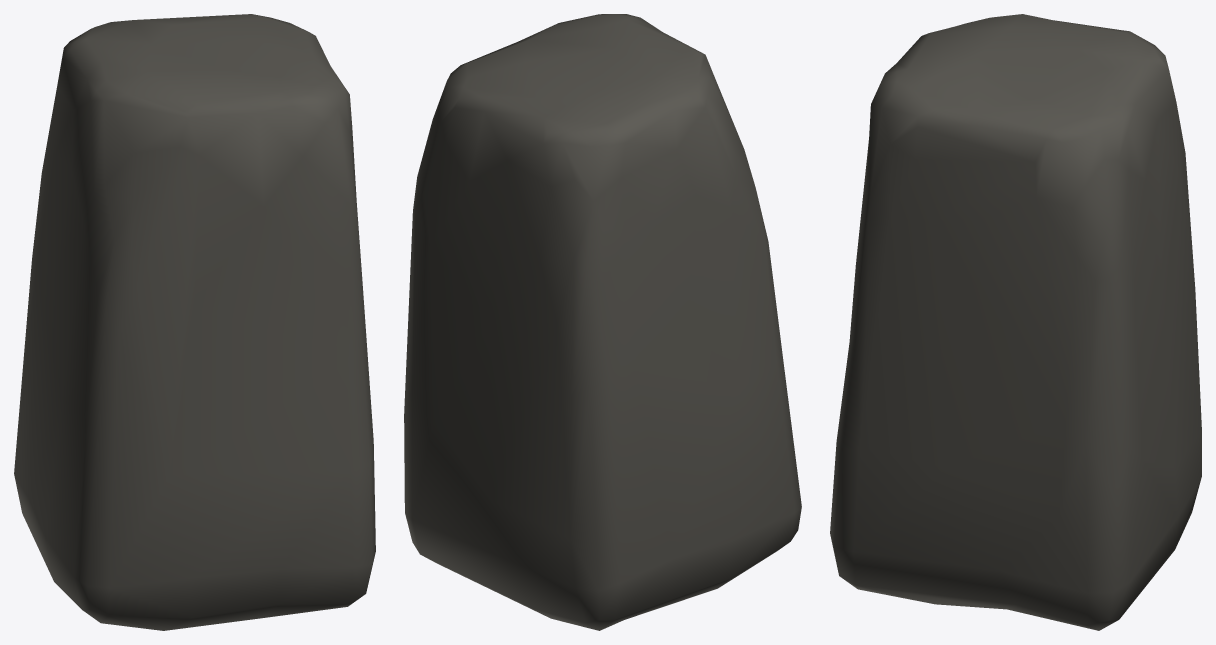
The model's file is Rock_SteppingStone 1.fbx.
3 renders of one model, left to right at view 1: azimuth 30°, elevation 25°; view 2: azimuth 150°, elevation 25°; view 3: azimuth 270°, elevation 25°, orthographic. The views are drawn at different scales.
Visible parts, largest first — view 1: Rock_SteppingStone; view 2: Rock_SteppingStone; view 3: Rock_SteppingStone.
Boxes of the visible parts, <box> form: Rock_SteppingStone: <box>14,14,375,630</box>; Rock_SteppingStone: <box>404,14,801,630</box>; Rock_SteppingStone: <box>830,14,1201,630</box>.
Bounding box in the file's own units: 297 × 462 × 299.
